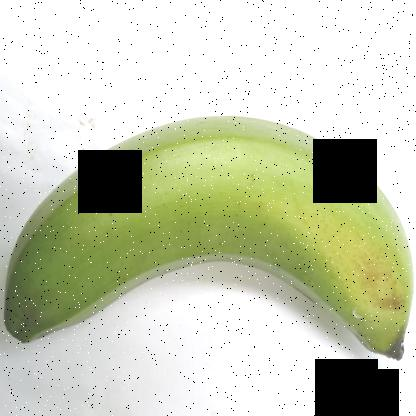freshunripe: (1, 98, 415, 378)
